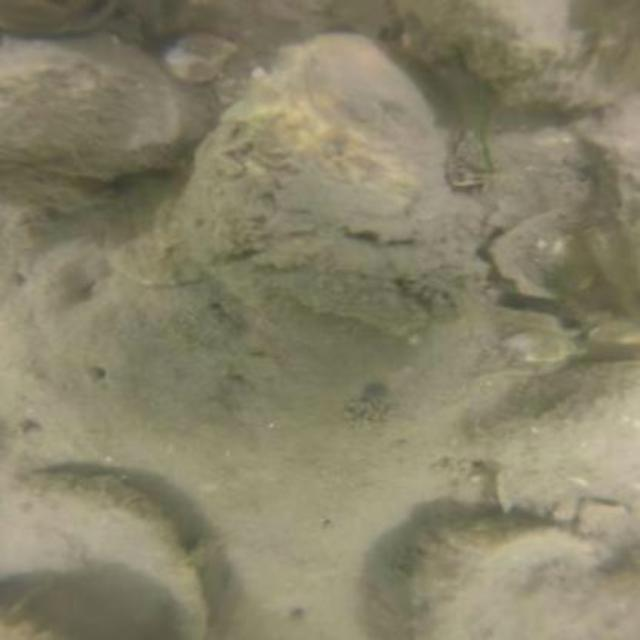Oyster-Closed: (167, 27, 472, 344), (8, 25, 186, 183), (409, 515, 613, 640), (496, 355, 640, 509)
